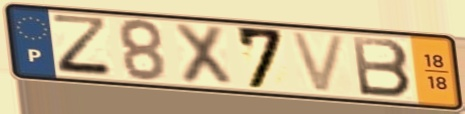7: (233, 24, 287, 91)
8: (116, 17, 170, 85)
B: (349, 34, 415, 100)
V: (287, 29, 350, 96)
X: (170, 20, 236, 89)
Z: (48, 12, 118, 80)
